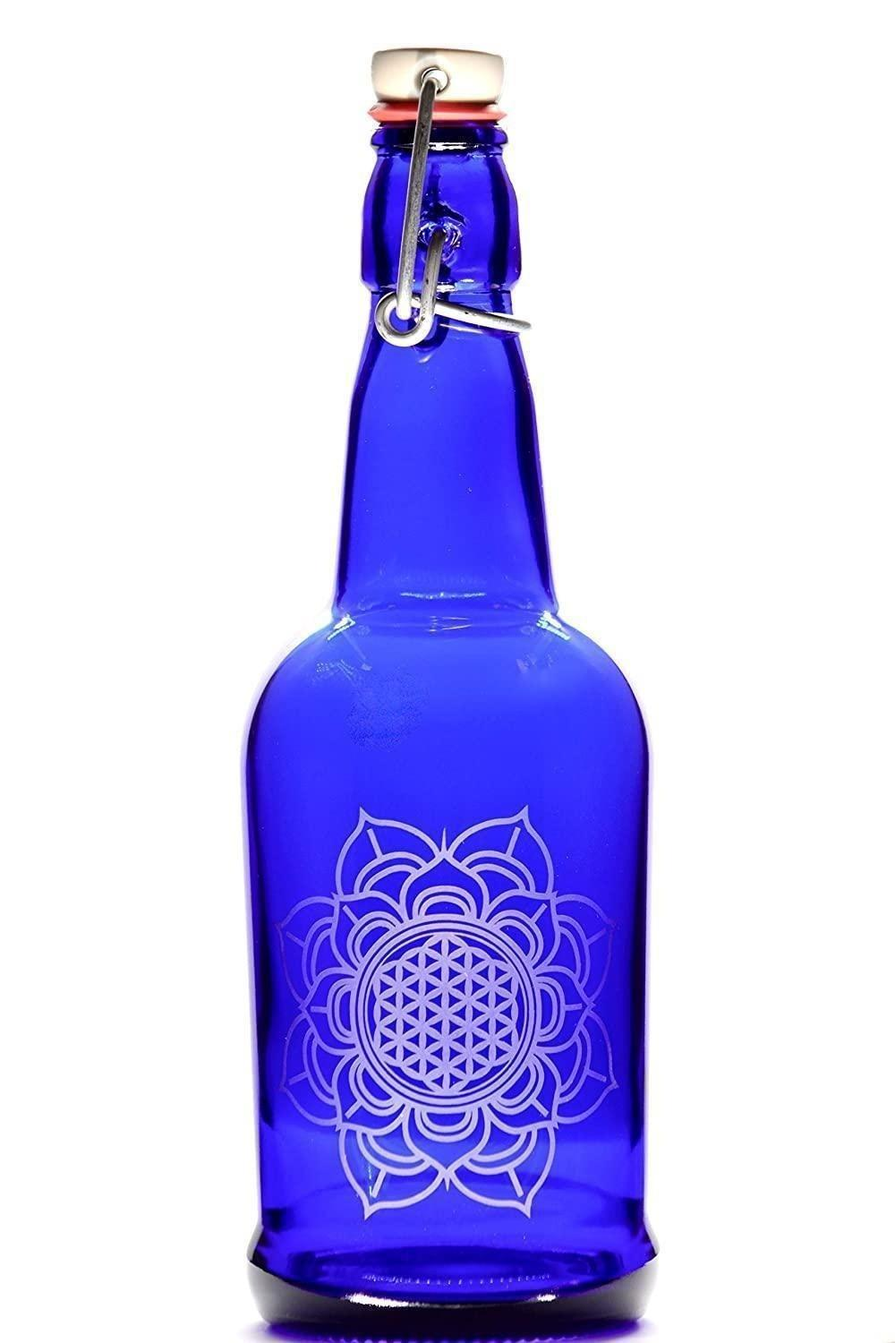bottle-glass: (230, 50, 665, 1339)
